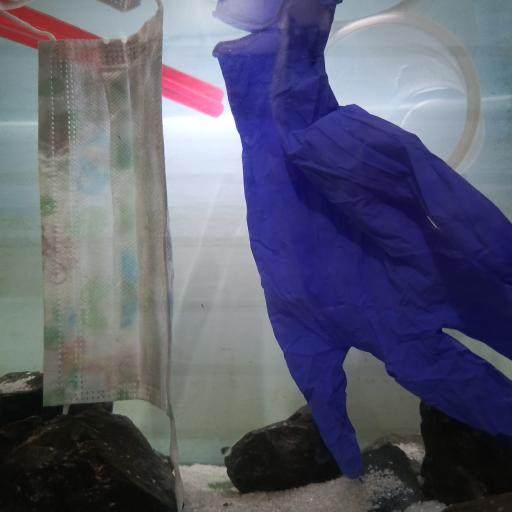glove: (215, 0, 512, 482)
mask: (0, 0, 177, 470)
plastic_cup: (325, 13, 482, 168)
plastic_straw: (0, 0, 224, 114)
